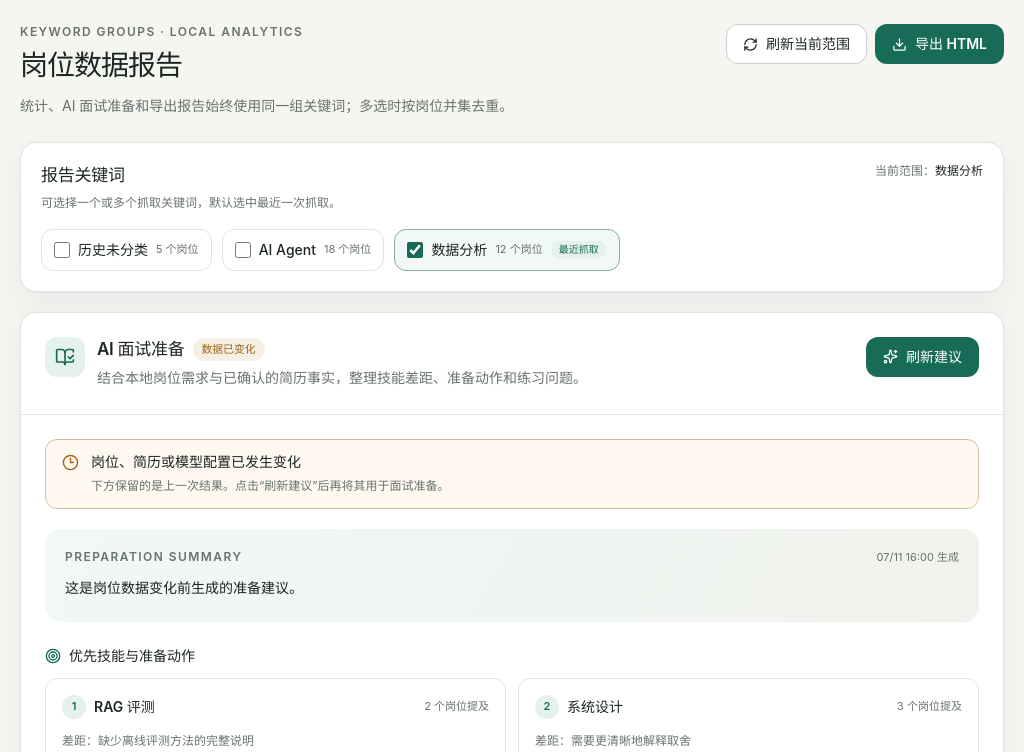
Scenario: full job data report page › refreshes a stale preparation explicitly and forces regeneration
expect the text "这是岗位数据变化前生成的准备建议。" is shown: met, box [65,578,303,596]
Click the button "刷新建议" at (922, 356), box [866,336,979,376]
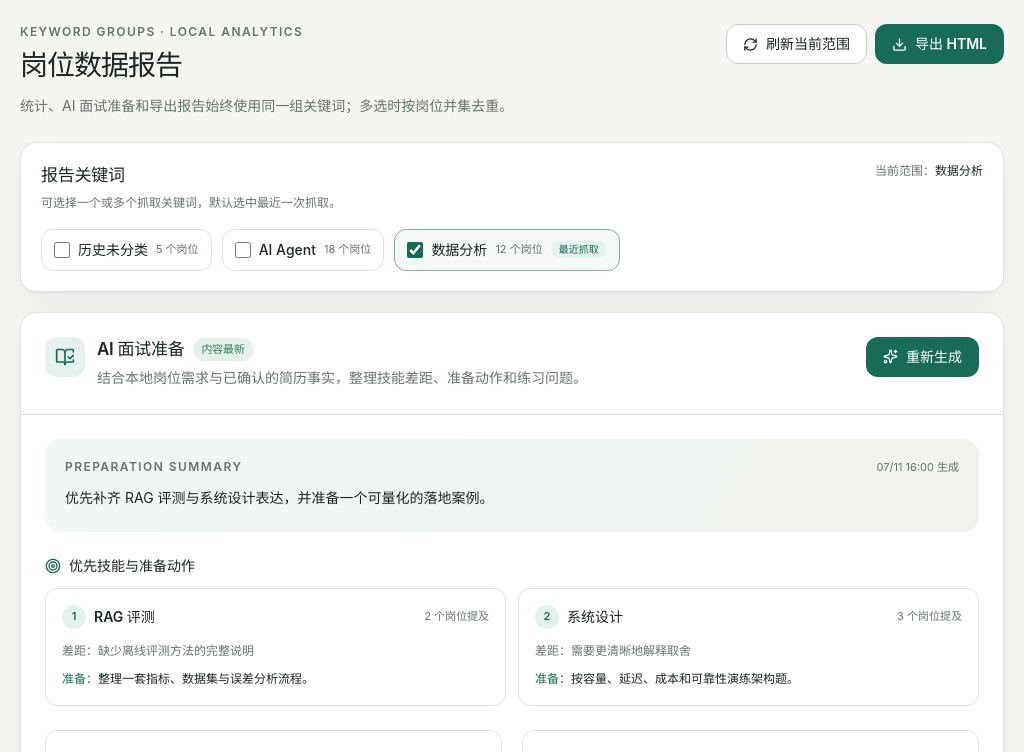
expect the text "优先补齐 RAG 评测与系统设计表达，并准备一个可量化的落地案例。" is shown: met, box [65,488,494,506]
expect the text "这是岗位数据变化前生成的准备建议。" is gone: met
